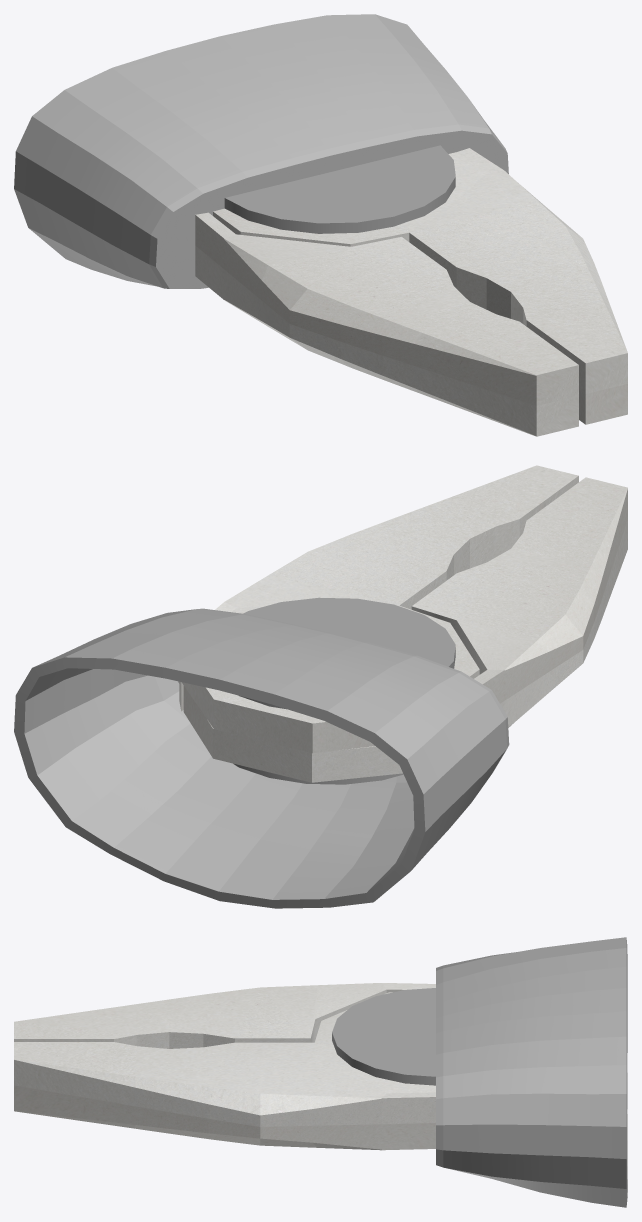
File: modifyV006.fbx
3 views of the same model, one above another, from view 1: azimuth 30°, elevation 25°; view 2: azimuth 150°, elevation 25°; view 3: azimuth 270°, elevation 25° (orthographic). The views are drawn at different scales.
Parts seen in each view (by area): view 1: PlierHead_Geo2, pCylinder11, pCylinder10, pCylinder12; view 2: PlierHead_Geo2, pCylinder11, pCylinder10, pCylinder12; view 3: PlierHead_Geo2, pCylinder10, pCylinder11, pCylinder12.
Boxes of the visible parts, <box> form: PlierHead_Geo2: <box>14,14,508,288</box>; pCylinder11: <box>195,212,578,436</box>; pCylinder10: <box>213,148,627,424</box>; pCylinder12: <box>224,145,455,233</box>; PlierHead_Geo2: <box>14,608,509,908</box>; pCylinder11: <box>183,477,627,782</box>; pCylinder10: <box>179,465,578,753</box>; pCylinder12: <box>233,597,455,784</box>; PlierHead_Geo2: <box>436,937,627,1207</box>; pCylinder10: <box>14,992,435,1150</box>; pCylinder11: <box>14,983,435,1048</box>; pCylinder12: <box>332,988,435,1085</box>.
Size of the model in its own units: 4.19 by 2.15 by 6.41.
